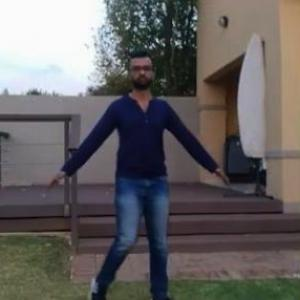land: (34, 48, 218, 299)
